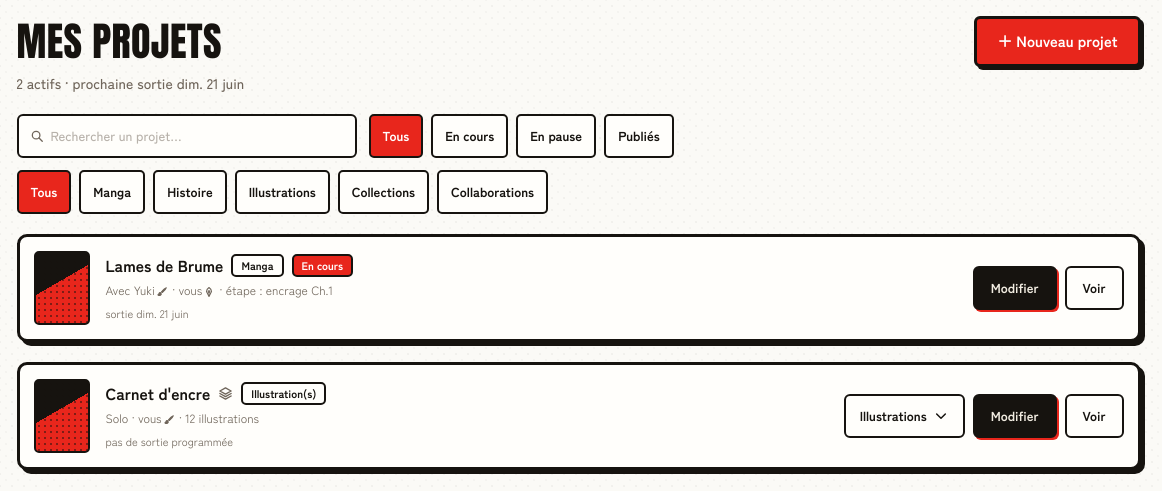
ProjetsClient (CS-12) › selecting "Collections" syncs ?type=collections and shows only collection cards
Expected: the text "Lames de Brume" is shown, left=106, top=253, right=223, bottom=277
Click the button "Collections". click: (383, 192)
box: left=338, top=170, right=429, bottom=214
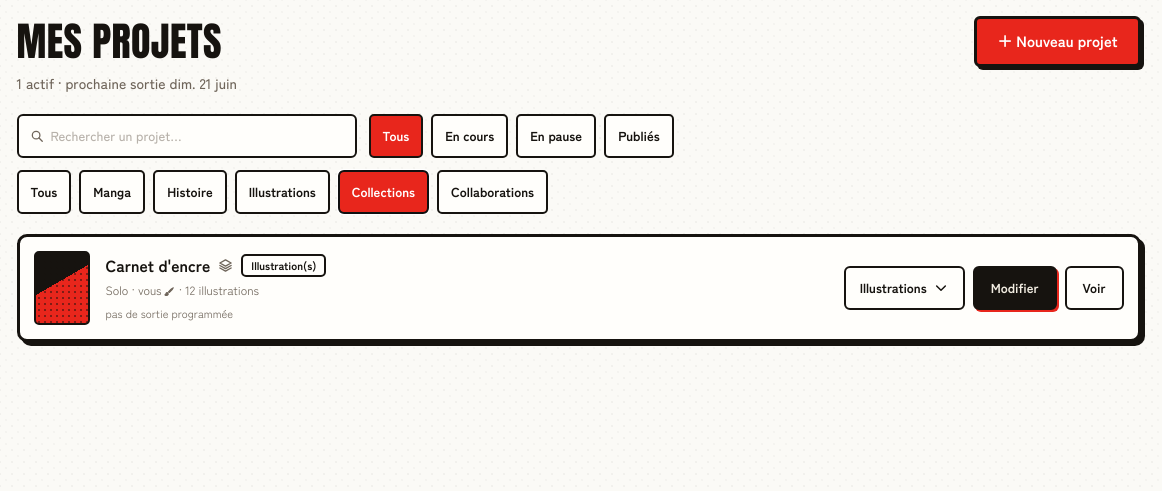
Expected: the text "Carnet d'encre" is shown, left=106, top=253, right=210, bottom=277
Result: the text "Lames de Brume" is gone
